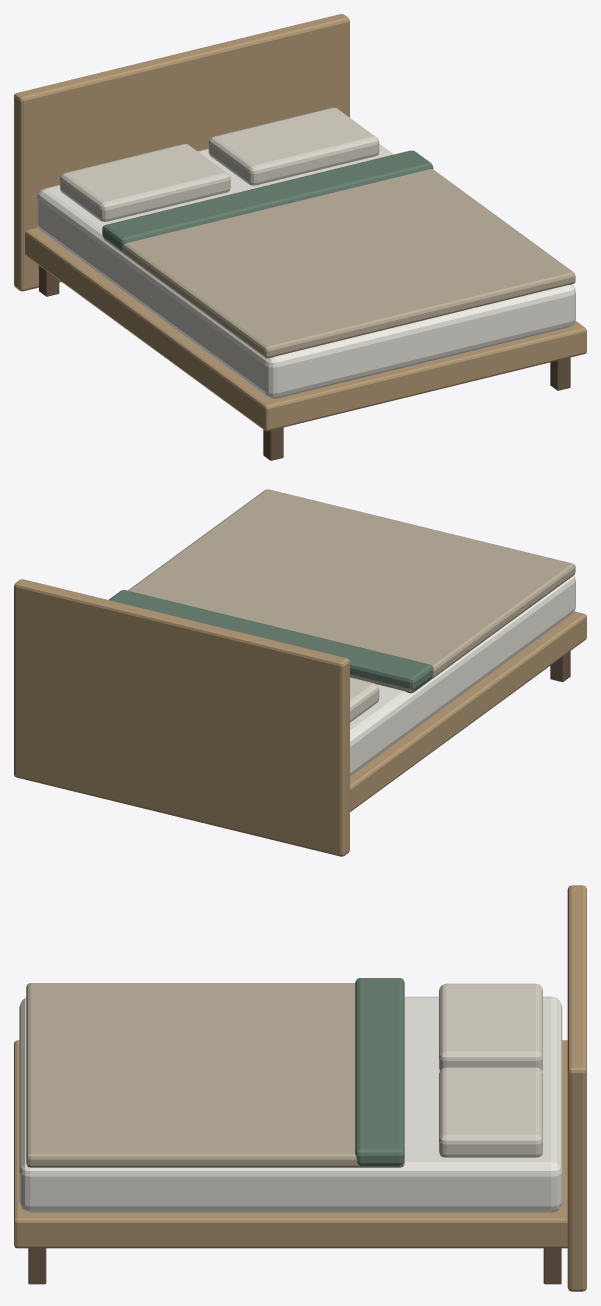
The model's file is bed_double.glb.
The picture shows the model from 3 angles, top to bottom: view 1: azimuth 30°, elevation 25°; view 2: azimuth 150°, elevation 25°; view 3: azimuth 270°, elevation 25°; orthographic projection. The views are drawn at different scales.
Visible parts, largest first — view 1: bed_double; view 2: bed_double; view 3: bed_double.
Part boxes in pixels (x1,y1,x2,y2): bed_double: [14, 14, 586, 460]; bed_double: [14, 489, 586, 856]; bed_double: [14, 885, 586, 1291].
Size of the model in its own units: 1.6 by 0.9 by 2.09.
